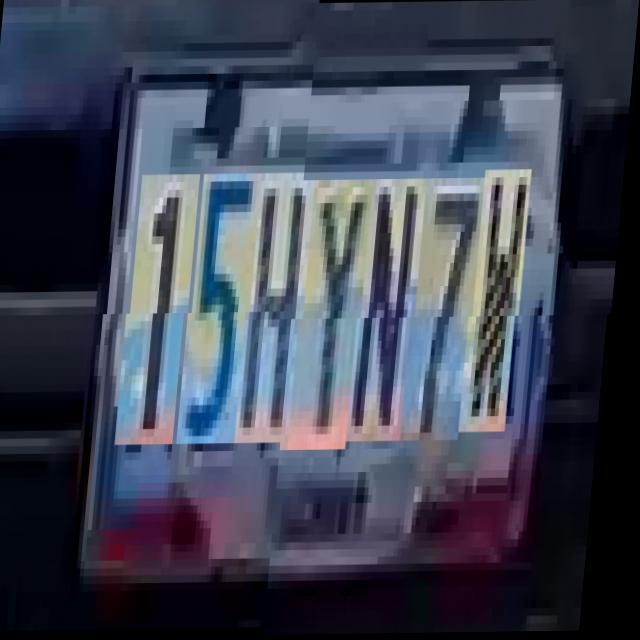1: (126, 182, 203, 454)
5: (188, 182, 264, 452)
7: (412, 179, 488, 442)
H: (246, 181, 318, 452)
N: (358, 180, 431, 442)
W: (470, 171, 536, 434)
Y: (299, 180, 376, 452)
